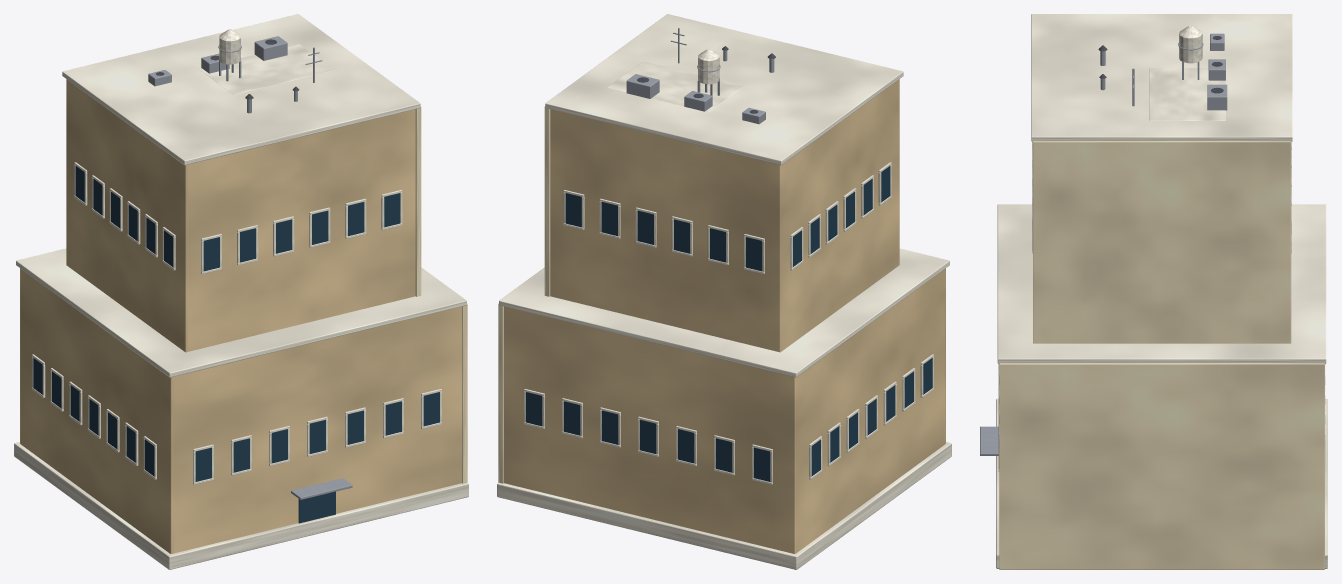
File: bldg_sand_midrise.glb
3 views of the same model, side by side, from view 1: azimuth 30°, elevation 25°; view 2: azimuth 150°, elevation 25°; view 3: azimuth 270°, elevation 25° (orthographic). The views are drawn at different scales.
Parts seen in each view (by area): view 1: bldg_sand_midrise_band_0_wall, bldg_sand_midrise_band_1_wall, bldg_sand_midrise_band_1_cornice, bldg_sand_midrise_band_0_cornice, bldg_sand_midrise_plinth, bldg_sand_midrise_roof_curb, bldg_sand_midrise_band_1_pilaster, bldg_sand_midrise_band_0_pilaster, bldg_sand_midrise_entrance, bldg_sand_midrise_canopy, bldg_sand_midrise_ac_2_case; view 2: bldg_sand_midrise_band_0_wall, bldg_sand_midrise_band_1_wall, bldg_sand_midrise_band_1_cornice, bldg_sand_midrise_band_0_cornice, bldg_sand_midrise_plinth, bldg_sand_midrise_roof_curb, bldg_sand_midrise_band_1_pilaster, bldg_sand_midrise_band_0_pilaster, bldg_sand_midrise_ac_2_case; view 3: bldg_sand_midrise_band_0_pilaster, bldg_sand_midrise_band_1_pilaster, bldg_sand_midrise_band_1_cornice, bldg_sand_midrise_band_0_cornice, bldg_sand_midrise_roof_curb, bldg_sand_midrise_plinth, bldg_sand_midrise_tank_a_barrel, bldg_sand_midrise_canopy, bldg_sand_midrise_ac_2_case.
Boxes of the visible parts, x1,y1,x2,y2 form: bldg_sand_midrise_band_0_wall: (20,268,461,553); bldg_sand_midrise_band_1_wall: (66,79,415,352); bldg_sand_midrise_band_1_cornice: (62,14,420,165); bldg_sand_midrise_band_0_cornice: (16,248,466,377); bldg_sand_midrise_plinth: (14,442,468,569); bldg_sand_midrise_roof_curb: (198,44,334,94); bldg_sand_midrise_band_1_pilaster: (415,106,421,296); bldg_sand_midrise_band_0_pilaster: (462,303,467,483); bldg_sand_midrise_entrance: (298,491,335,523); bldg_sand_midrise_canopy: (291,478,352,499); bldg_sand_midrise_ac_2_case: (254,36,287,60); bldg_sand_midrise_band_0_wall: (504,268,945,553); bldg_sand_midrise_band_1_wall: (550,79,899,352); bldg_sand_midrise_band_1_cornice: (545,14,903,165); bldg_sand_midrise_band_0_cornice: (499,248,949,377); bldg_sand_midrise_plinth: (497,442,951,569); bldg_sand_midrise_roof_curb: (607,61,743,112); bldg_sand_midrise_band_1_pilaster: (544,106,550,296); bldg_sand_midrise_band_0_pilaster: (498,303,503,483); bldg_sand_midrise_ac_2_case: (626,74,659,98); bldg_sand_midrise_band_0_pilaster: (999,363,1324,569); bldg_sand_midrise_band_1_pilaster: (1033,141,1291,343); bldg_sand_midrise_band_1_cornice: (1031,14,1292,141); bldg_sand_midrise_band_0_cornice: (997,204,1326,363); bldg_sand_midrise_roof_curb: (1149,68,1225,120); bldg_sand_midrise_plinth: (996,398,1327,568); bldg_sand_midrise_tank_a_barrel: (1179,34,1202,63); bldg_sand_midrise_canopy: (980,426,998,455); bldg_sand_midrise_ac_2_case: (1207,84,1227,110).
Bounding box in the file's own units: 19.51 × 27.17 × 18.35.
Materials: 6 (6 with a texture image).
